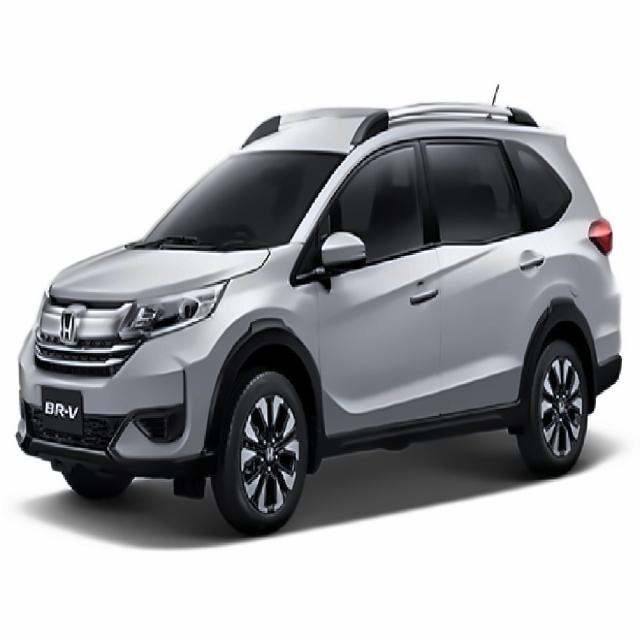Car hood: (33, 238, 277, 307)
Fender - -F-L-: (209, 240, 323, 475)
Fender - -R-L-: (547, 222, 623, 324)
Front bumper: (14, 344, 240, 484)
Headlight - -L-: (118, 277, 236, 345)
Passenger-s door - -F-L-: (323, 123, 441, 439)
Passenger-s door - -R-L-: (440, 123, 553, 422)
Rear bumper: (582, 319, 634, 423)
Rear light - -L-: (578, 206, 621, 263)
Side bumper - -L-: (313, 399, 530, 465)
Side mirror - -L-: (320, 228, 372, 279)
